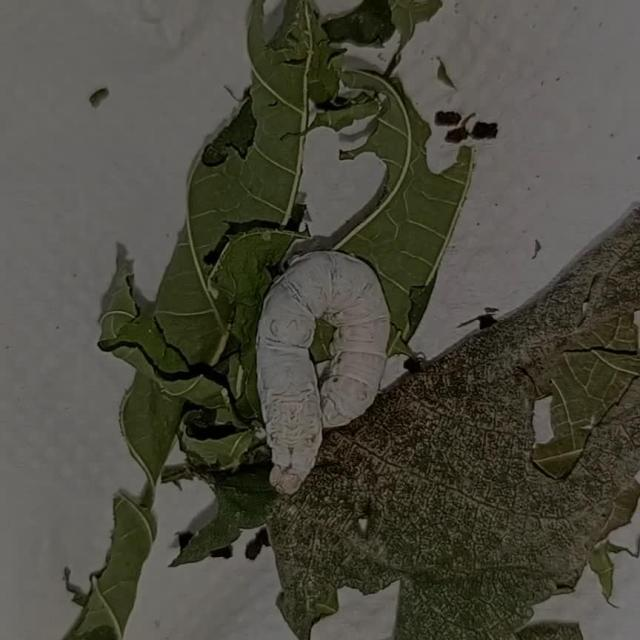Healthy: (243, 224, 423, 500)
